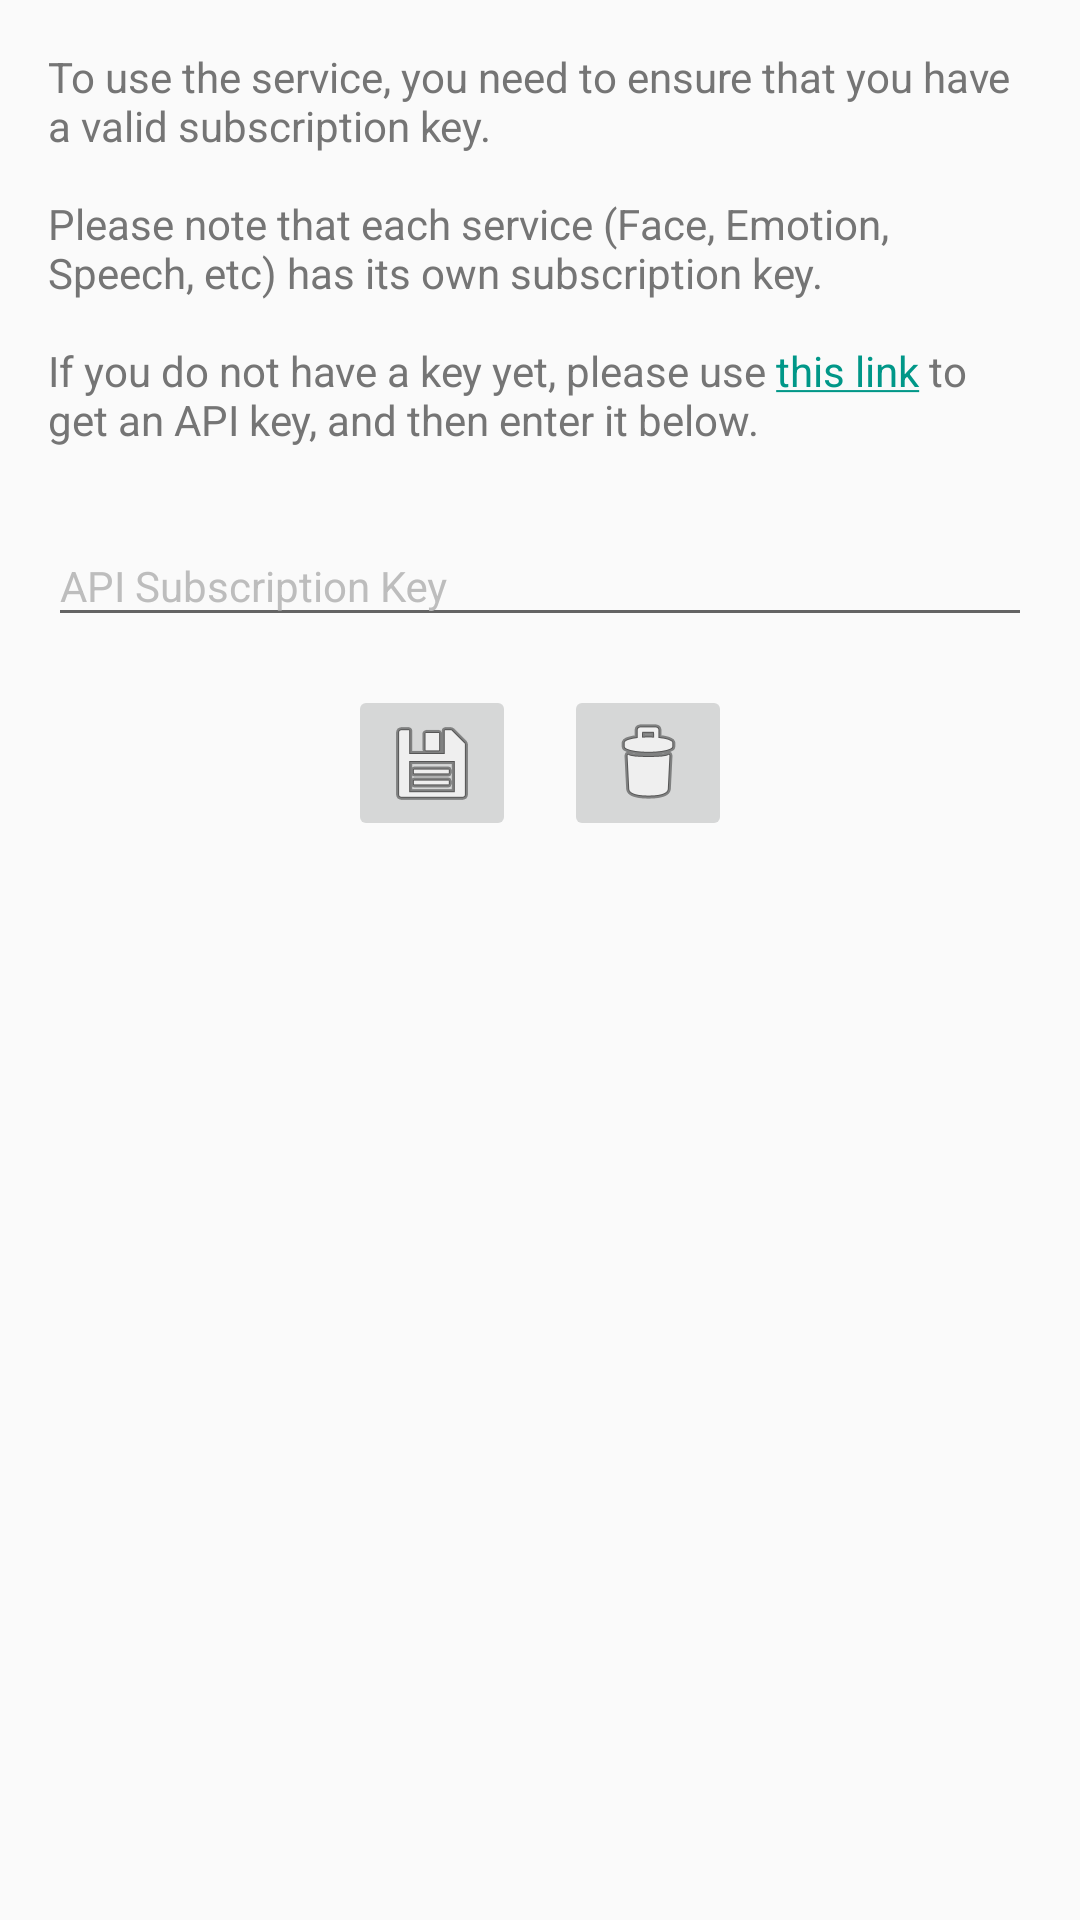

Icons on this 1080w x 1920h Android screen, each with its box as (x1, y1, x2, y2):
delete: (576, 703, 720, 823)
save: (360, 703, 504, 823)
